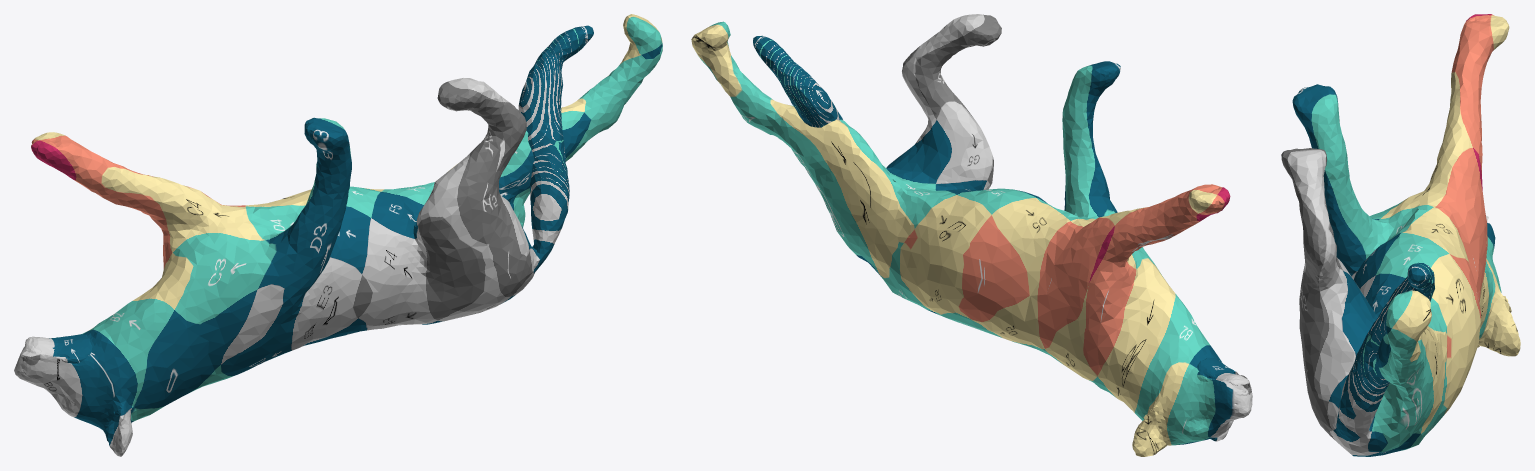
The model's file is cow_04-dog_08.obj.
The picture shows the model from 3 angles, left to right: view 1: azimuth 30°, elevation 25°; view 2: azimuth 150°, elevation 25°; view 3: azimuth 270°, elevation 25°; orthographic projection. The views are drawn at different scales.
Visible parts, largest first — view 1: cow_04-dog_08_export; view 2: cow_04-dog_08_export; view 3: cow_04-dog_08_export.
Part boxes in pixels (x1,y1,x2,y2): cow_04-dog_08_export: (14, 14, 662, 456); cow_04-dog_08_export: (691, 14, 1252, 456); cow_04-dog_08_export: (1281, 14, 1520, 456).
Bounding box in the file's own units: 1.17 × 0.611 × 0.3694.
